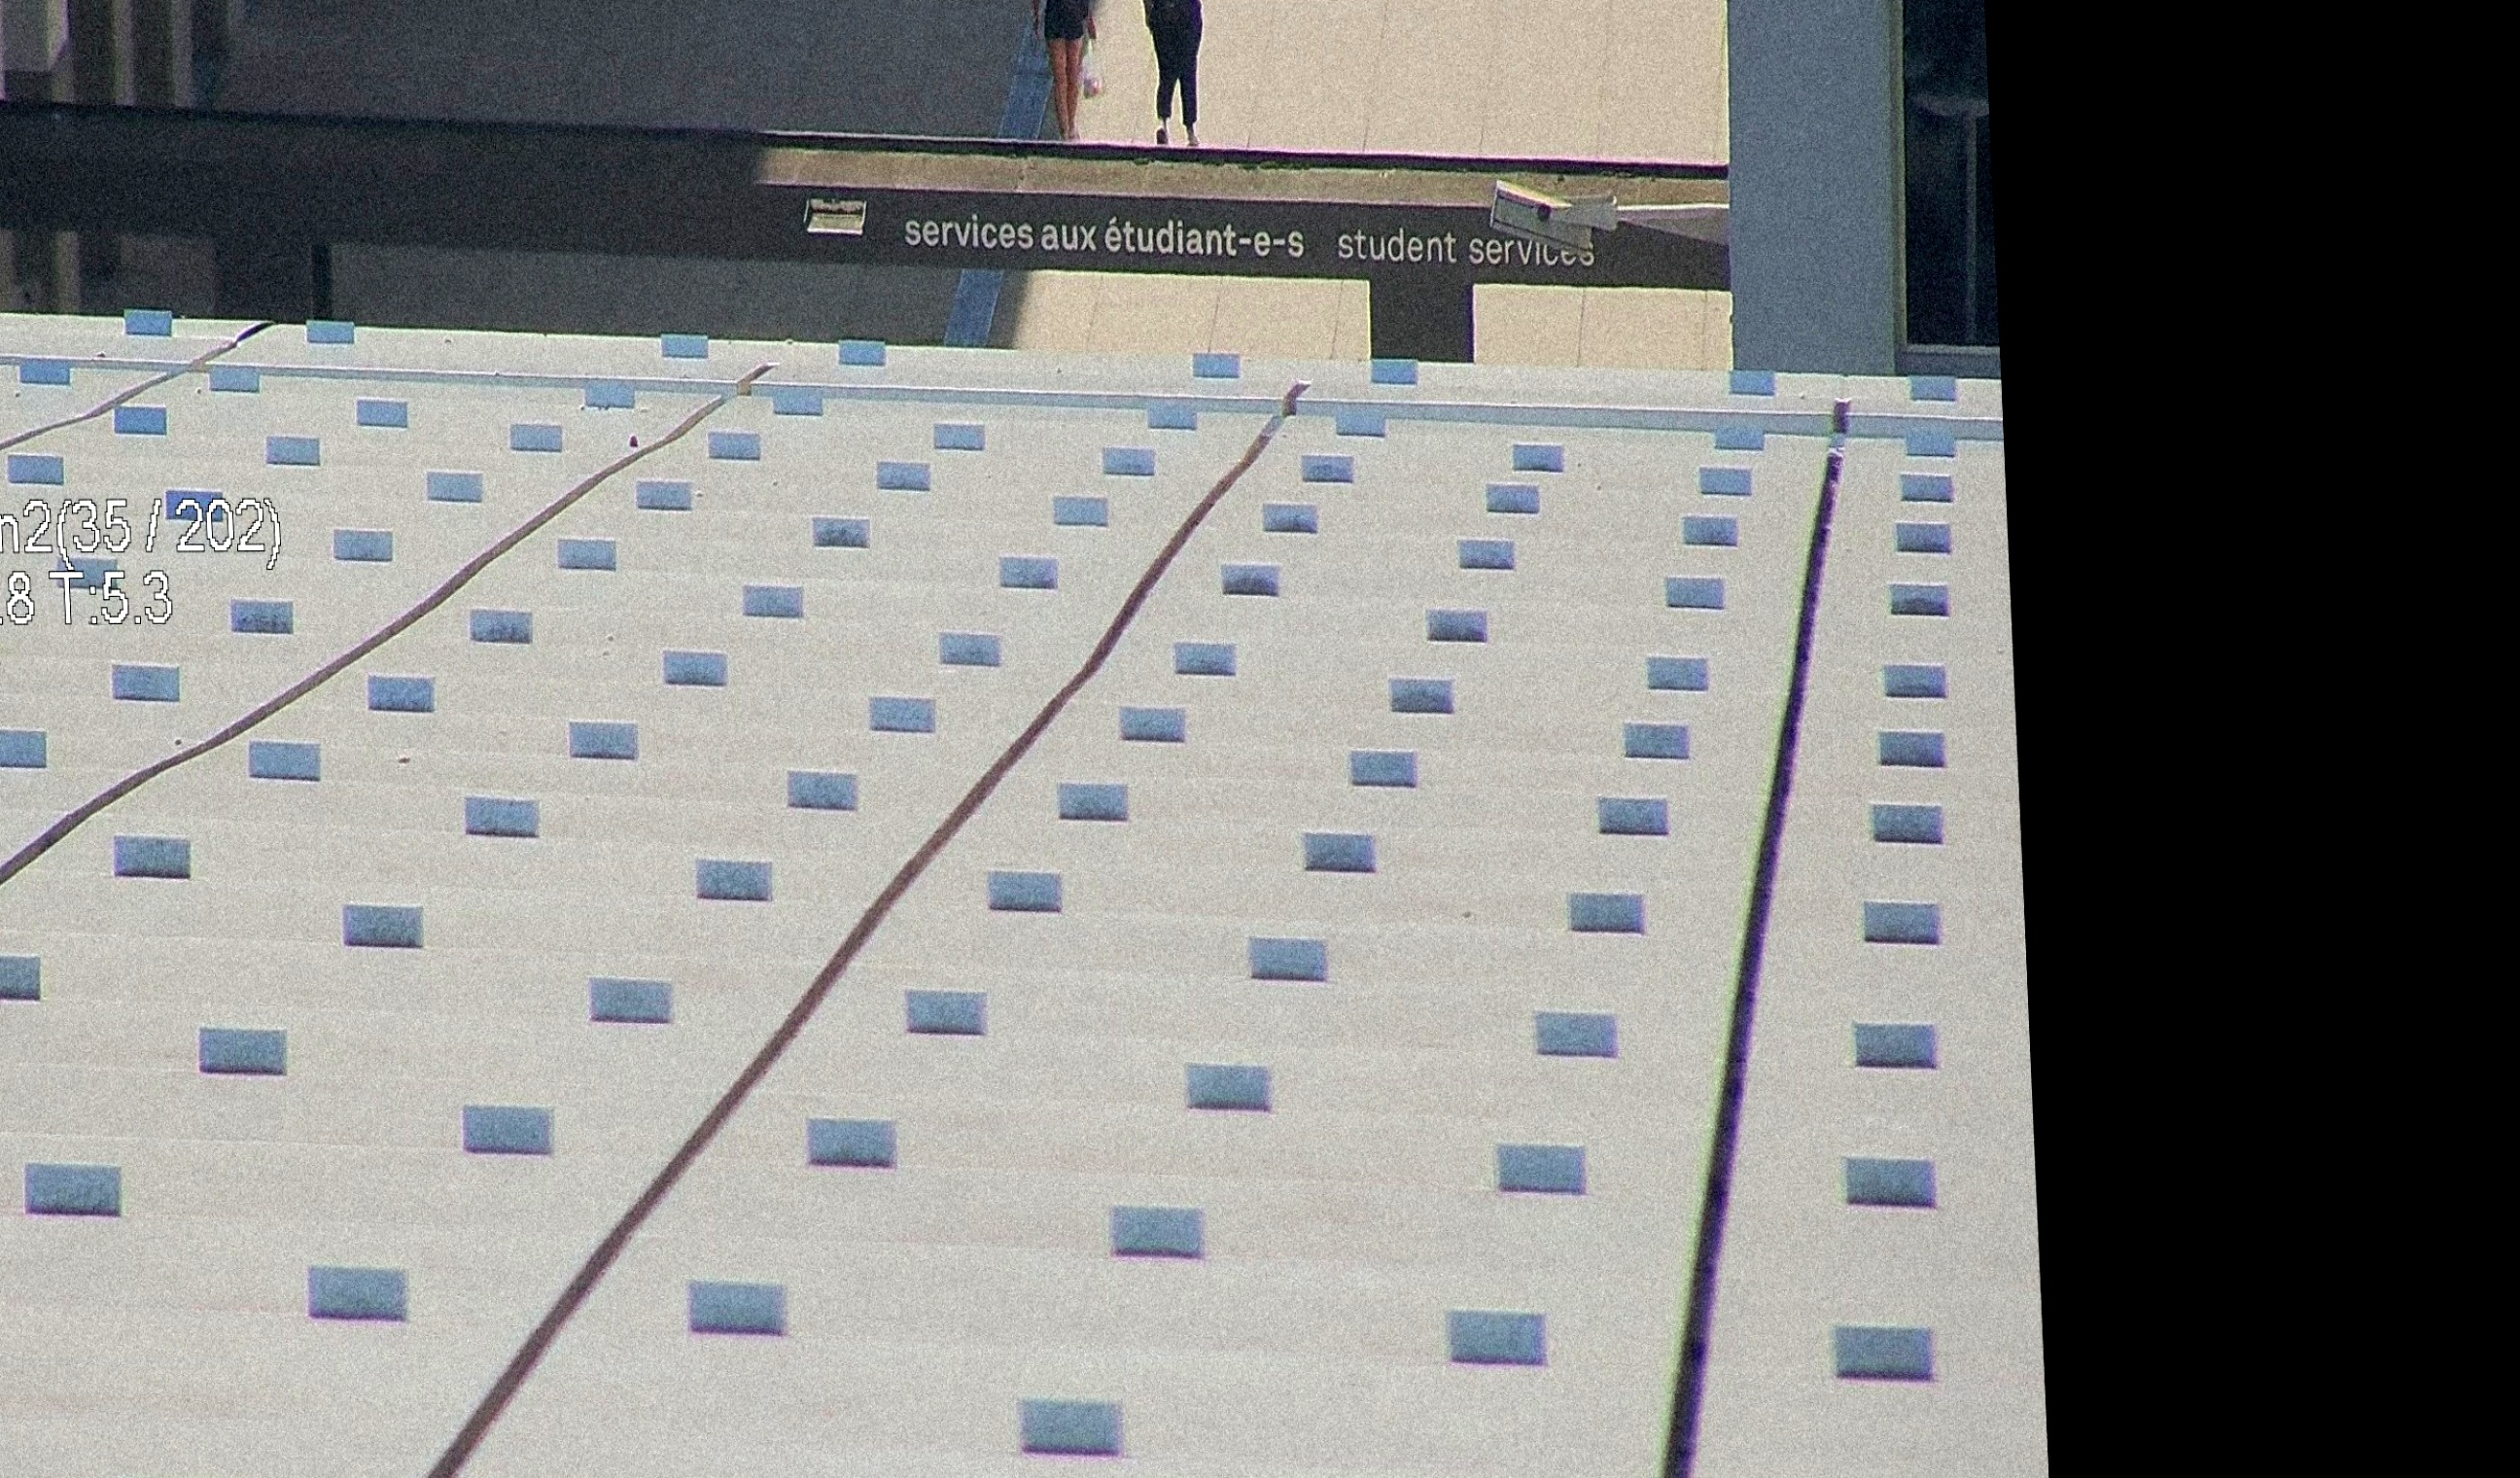Other: (1136, 0, 1229, 132)
